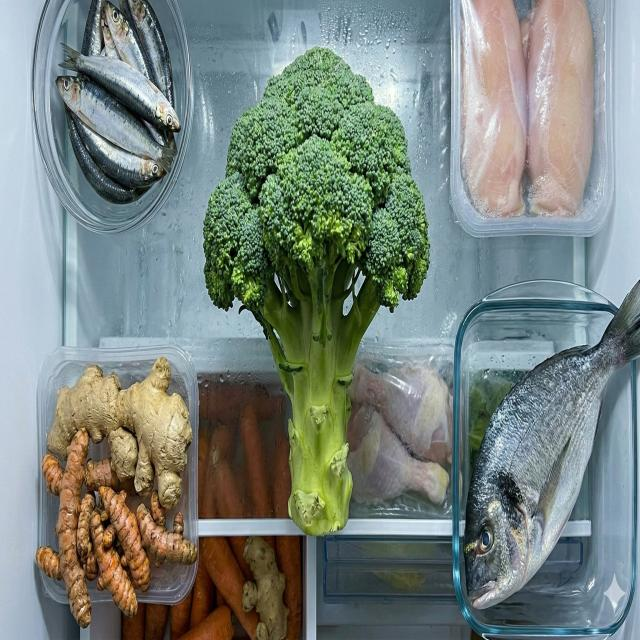brocolli: (203, 44, 430, 538)
carrot: (122, 383, 304, 639)
chicken: (460, 0, 596, 221), (345, 362, 454, 504)
fish: (464, 279, 640, 611), (54, 0, 180, 204)
ginger: (47, 358, 194, 515), (242, 540, 290, 640)
turmeric: (35, 429, 198, 631)
